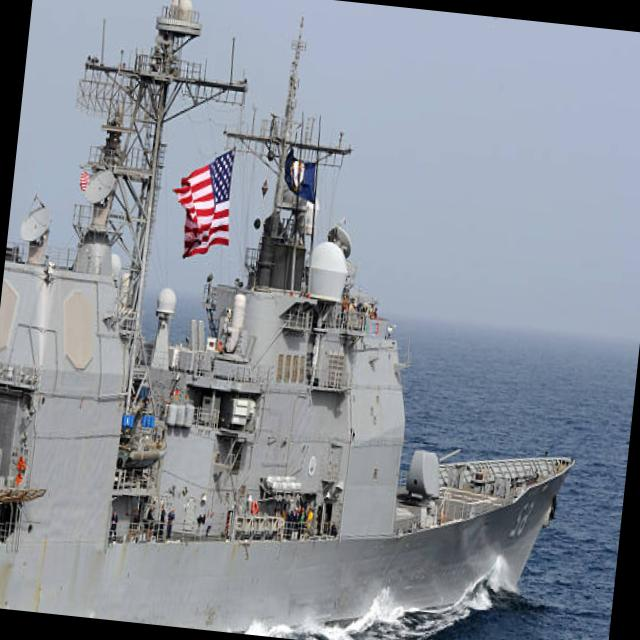Military: (0, 0, 574, 640)
